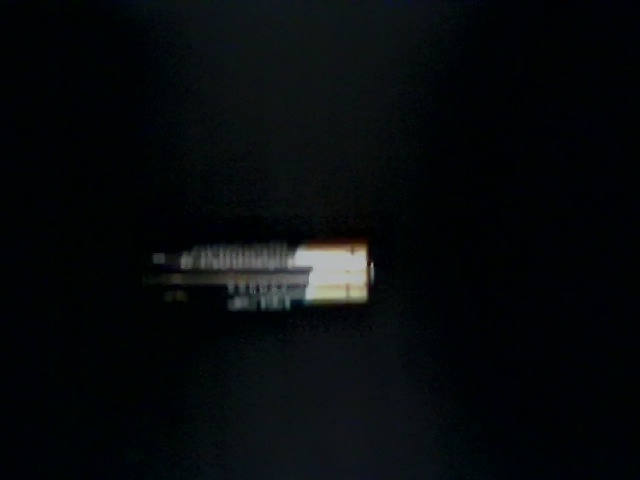YHLJ: (113, 354, 396, 453)
